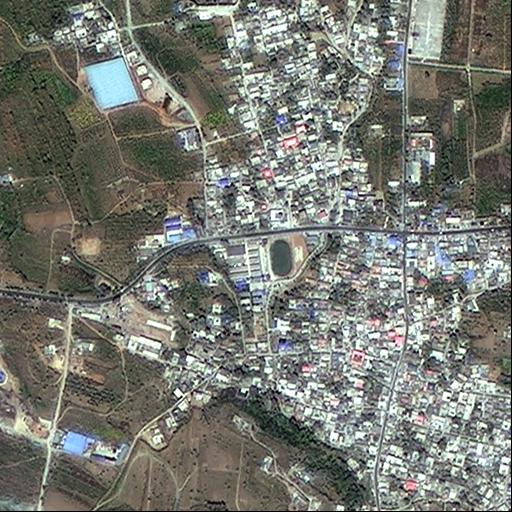school: (223, 232, 298, 282)
